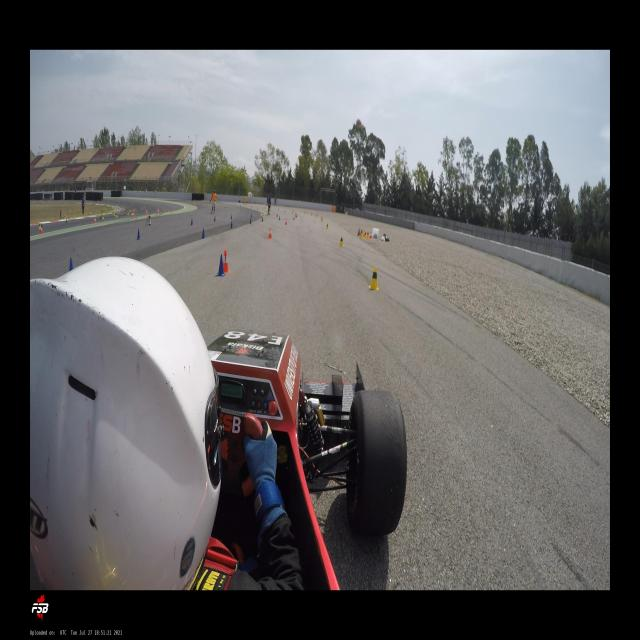orange_cone: (221, 250, 230, 274), (268, 227, 272, 238), (40, 226, 44, 235), (368, 232, 372, 238), (145, 209, 148, 216), (131, 211, 134, 218), (284, 218, 287, 225), (163, 208, 166, 213), (94, 217, 96, 224), (134, 208, 136, 214), (157, 208, 159, 214), (293, 215, 295, 220)
unknown_cone: (216, 254, 226, 276), (69, 257, 73, 272), (136, 228, 140, 240), (202, 227, 206, 239), (230, 220, 233, 229), (249, 217, 252, 224), (213, 215, 216, 222), (190, 218, 193, 225), (261, 216, 264, 222), (230, 214, 232, 222), (358, 228, 360, 235), (279, 216, 280, 220), (251, 214, 252, 218)
yellow_cone: (368, 266, 379, 290), (338, 235, 344, 247), (363, 231, 367, 239), (360, 229, 363, 238), (38, 222, 42, 228), (366, 231, 369, 239), (320, 216, 323, 222), (115, 212, 118, 218), (326, 222, 328, 230), (128, 210, 130, 215), (113, 211, 115, 216), (102, 214, 104, 219), (167, 208, 169, 212)
